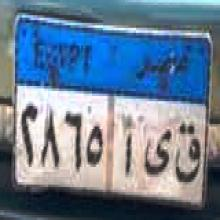2: (19, 101, 40, 167)
5: (84, 122, 106, 170)
6: (64, 110, 84, 168)
8: (39, 107, 59, 172)
alif: (120, 117, 134, 180)
qaaf: (172, 123, 203, 182)
yaa: (145, 124, 170, 178)
